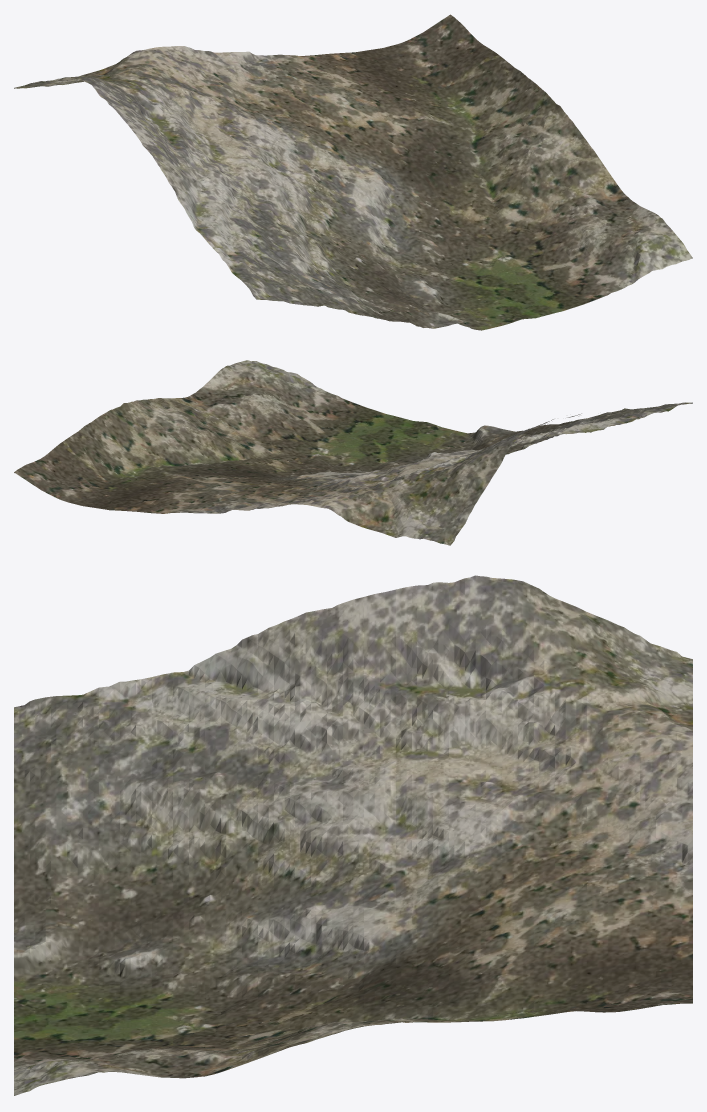
3 renders of one model, top to bottom at view 1: azimuth 30°, elevation 25°; view 2: azimuth 150°, elevation 25°; view 3: azimuth 270°, elevation 25°, orthographic. The views are drawn at different scales.
Size of the model in its own units: 500 by 199 by 481.
1 material, 1 textured.
